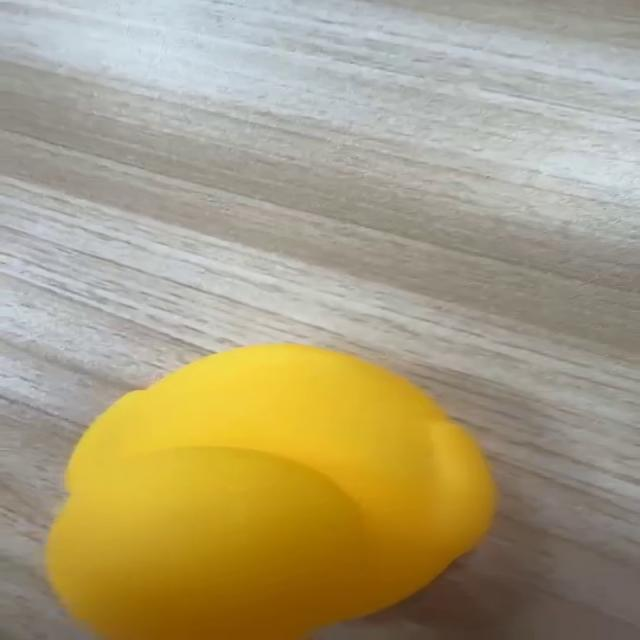yellow_duck: (41, 341, 499, 638)
